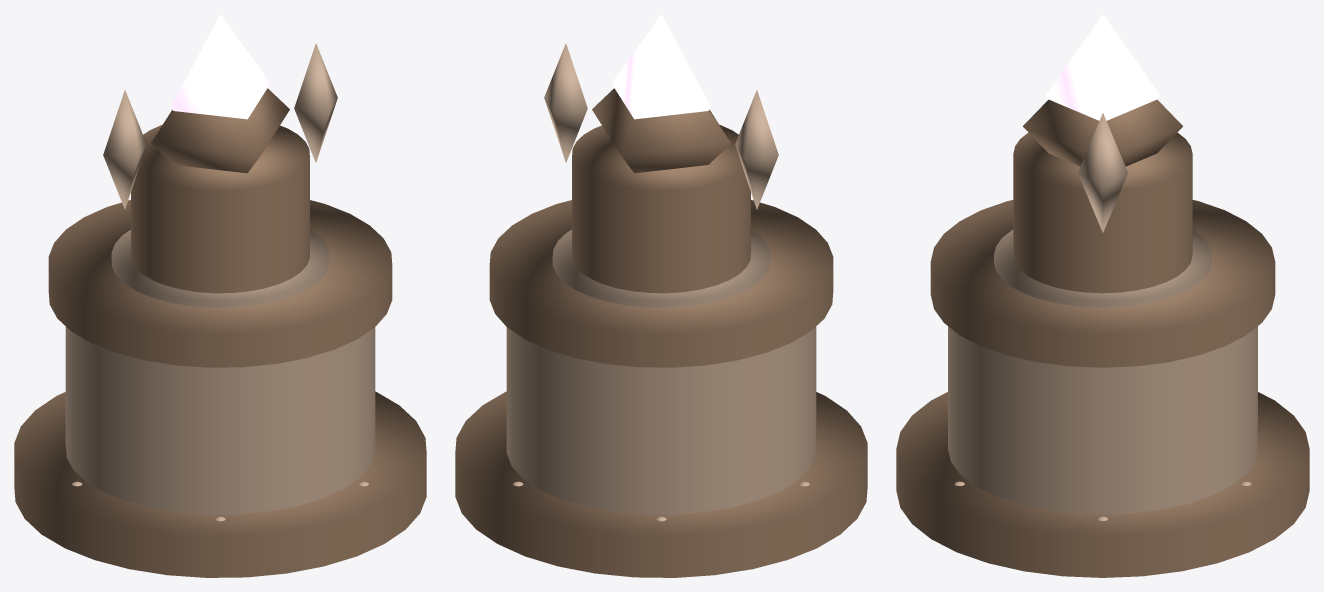
The model's file is lightning_l3.glb.
The picture shows the model from 3 angles, left to right: view 1: azimuth 30°, elevation 25°; view 2: azimuth 150°, elevation 25°; view 3: azimuth 270°, elevation 25°; orthographic projection.
Parts seen in each view (by area): view 1: base, footing, baseCollar, shaft, support, spinCrystal, lowerTrim, shardL, shardR; view 2: base, footing, baseCollar, shaft, support, spinCrystal, lowerTrim, shardL, shardR; view 3: base, footing, baseCollar, shaft, spinCrystal, support, lowerTrim, shardR.
Part boxes in pixels (box(x1,y1,x2,y2)): base: box(65, 326, 375, 514); footing: box(14, 391, 426, 577); baseCollar: box(48, 200, 392, 367); shaft: box(131, 124, 309, 293); support: box(151, 88, 289, 173); spinCrystal: box(171, 14, 269, 119); lowerTrim: box(111, 229, 329, 307); shardL: box(103, 90, 146, 209); shardR: box(294, 43, 337, 162); base: box(506, 326, 816, 514); footing: box(455, 391, 867, 577); baseCollar: box(489, 200, 833, 367); shaft: box(572, 124, 750, 293); support: box(592, 88, 730, 173); spinCrystal: box(612, 14, 710, 119); lowerTrim: box(552, 229, 770, 307); shardL: box(735, 90, 778, 209); shardR: box(544, 43, 587, 162); base: box(948, 326, 1257, 514); footing: box(896, 392, 1309, 577); baseCollar: box(930, 200, 1275, 367); shaft: box(1013, 132, 1192, 293); spinCrystal: box(1045, 14, 1160, 120); support: box(1023, 99, 1182, 166); lowerTrim: box(994, 229, 1211, 307); shardR: box(1078, 113, 1127, 232).
Size of the model in its own units: 1.8 by 2.29 by 1.8.
